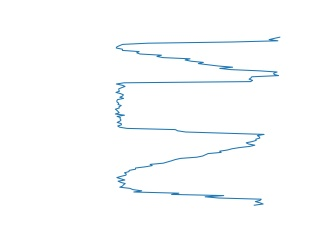distributaryChannelFill: (112, 72, 267, 144)
mouthBar: (115, 32, 283, 76)
underwaterDistributaryChannel: (114, 140, 266, 205)
